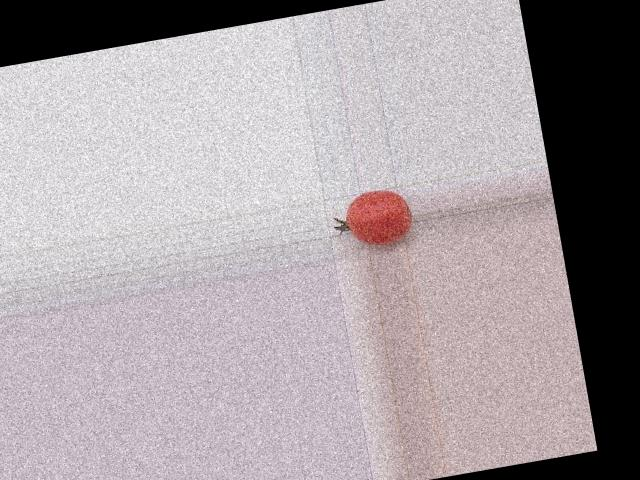tomato: (342, 185, 415, 249)
